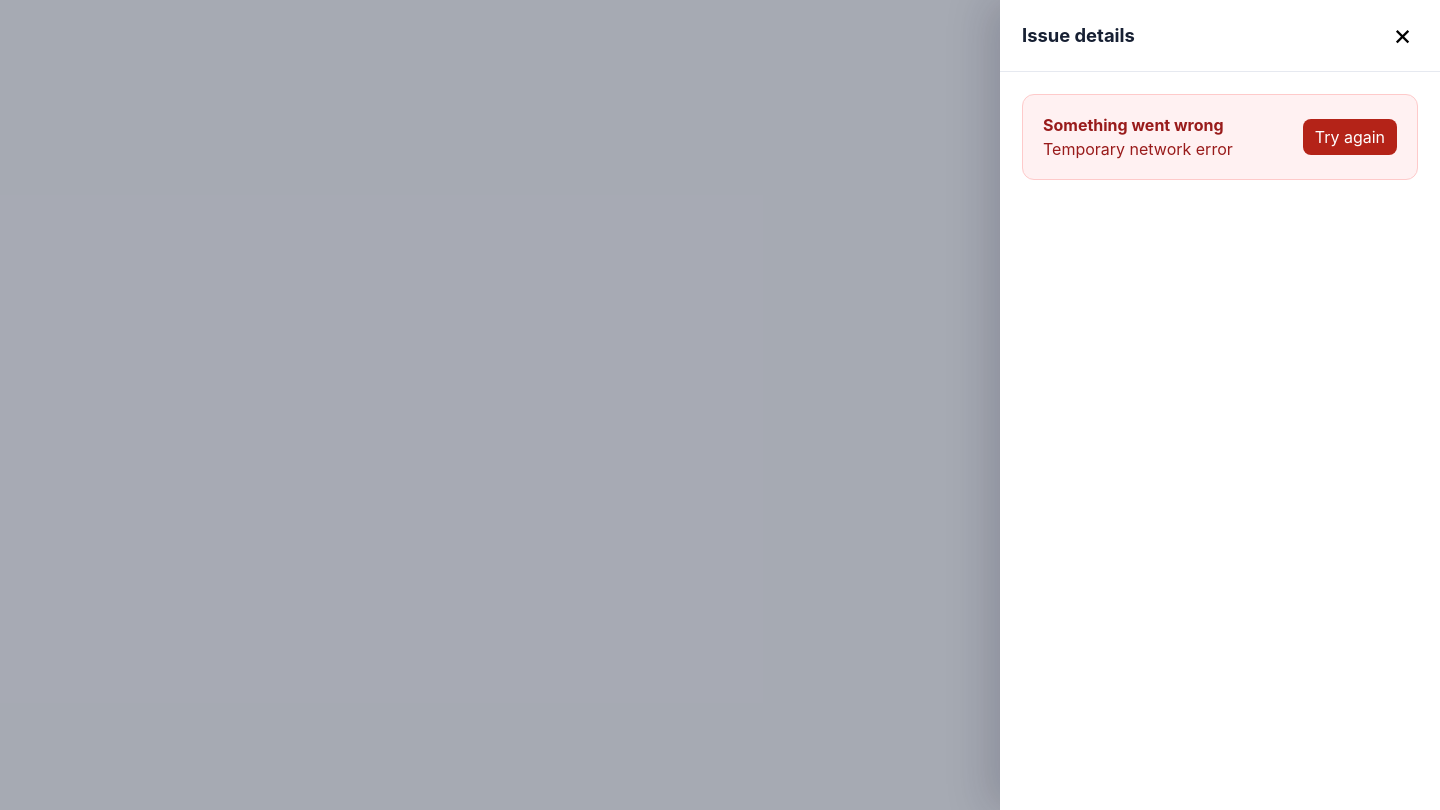
Test: IssueDetailsPanel › shows an isolated error and retries the detail request
Expected: the message shows "Temporary network error", [1043,139,1233,159]
Click the button "Try again": [1350, 137] box [1303,119,1397,155]
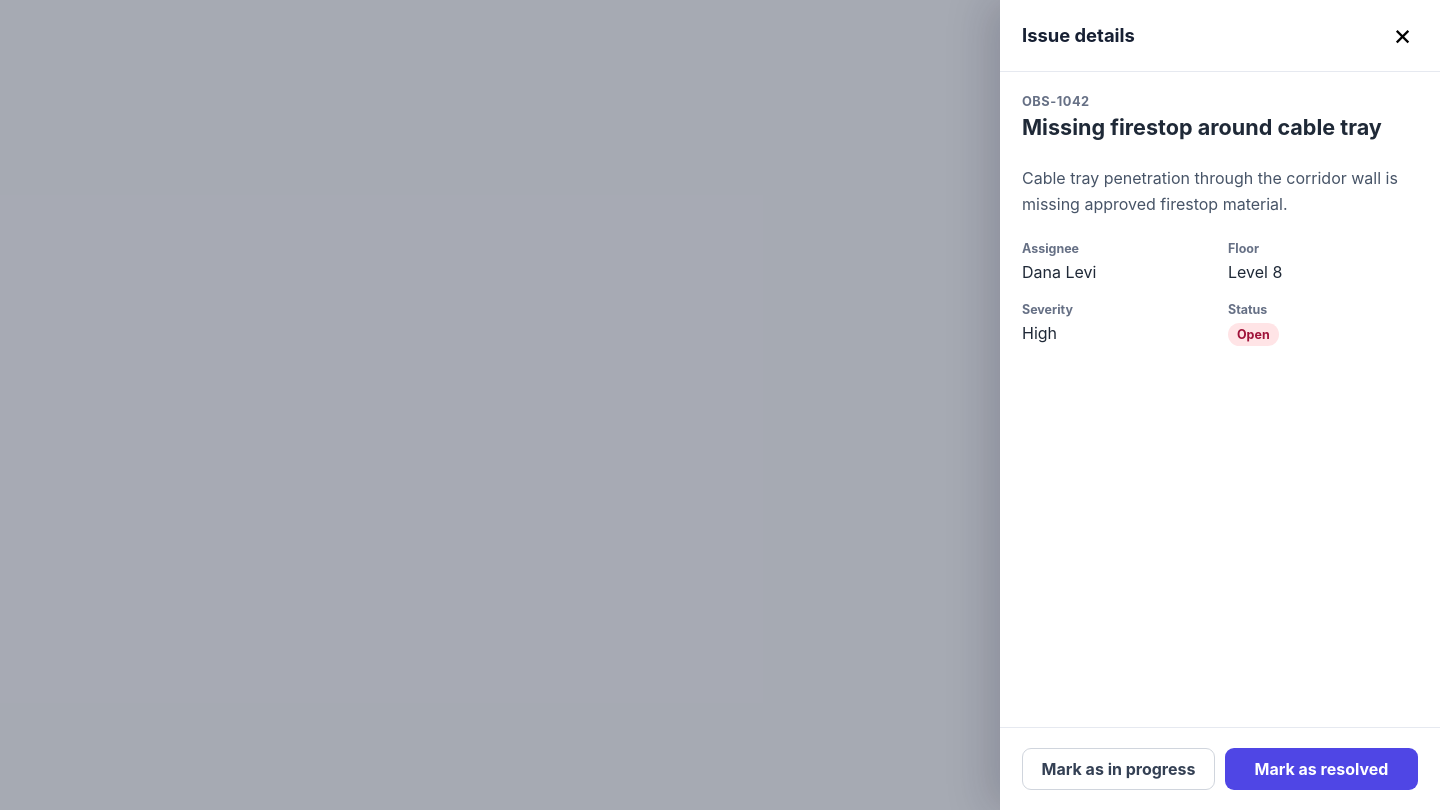
Now the heading "Missing firestop around cable tray" is shown, box [1022,113,1418,142]
